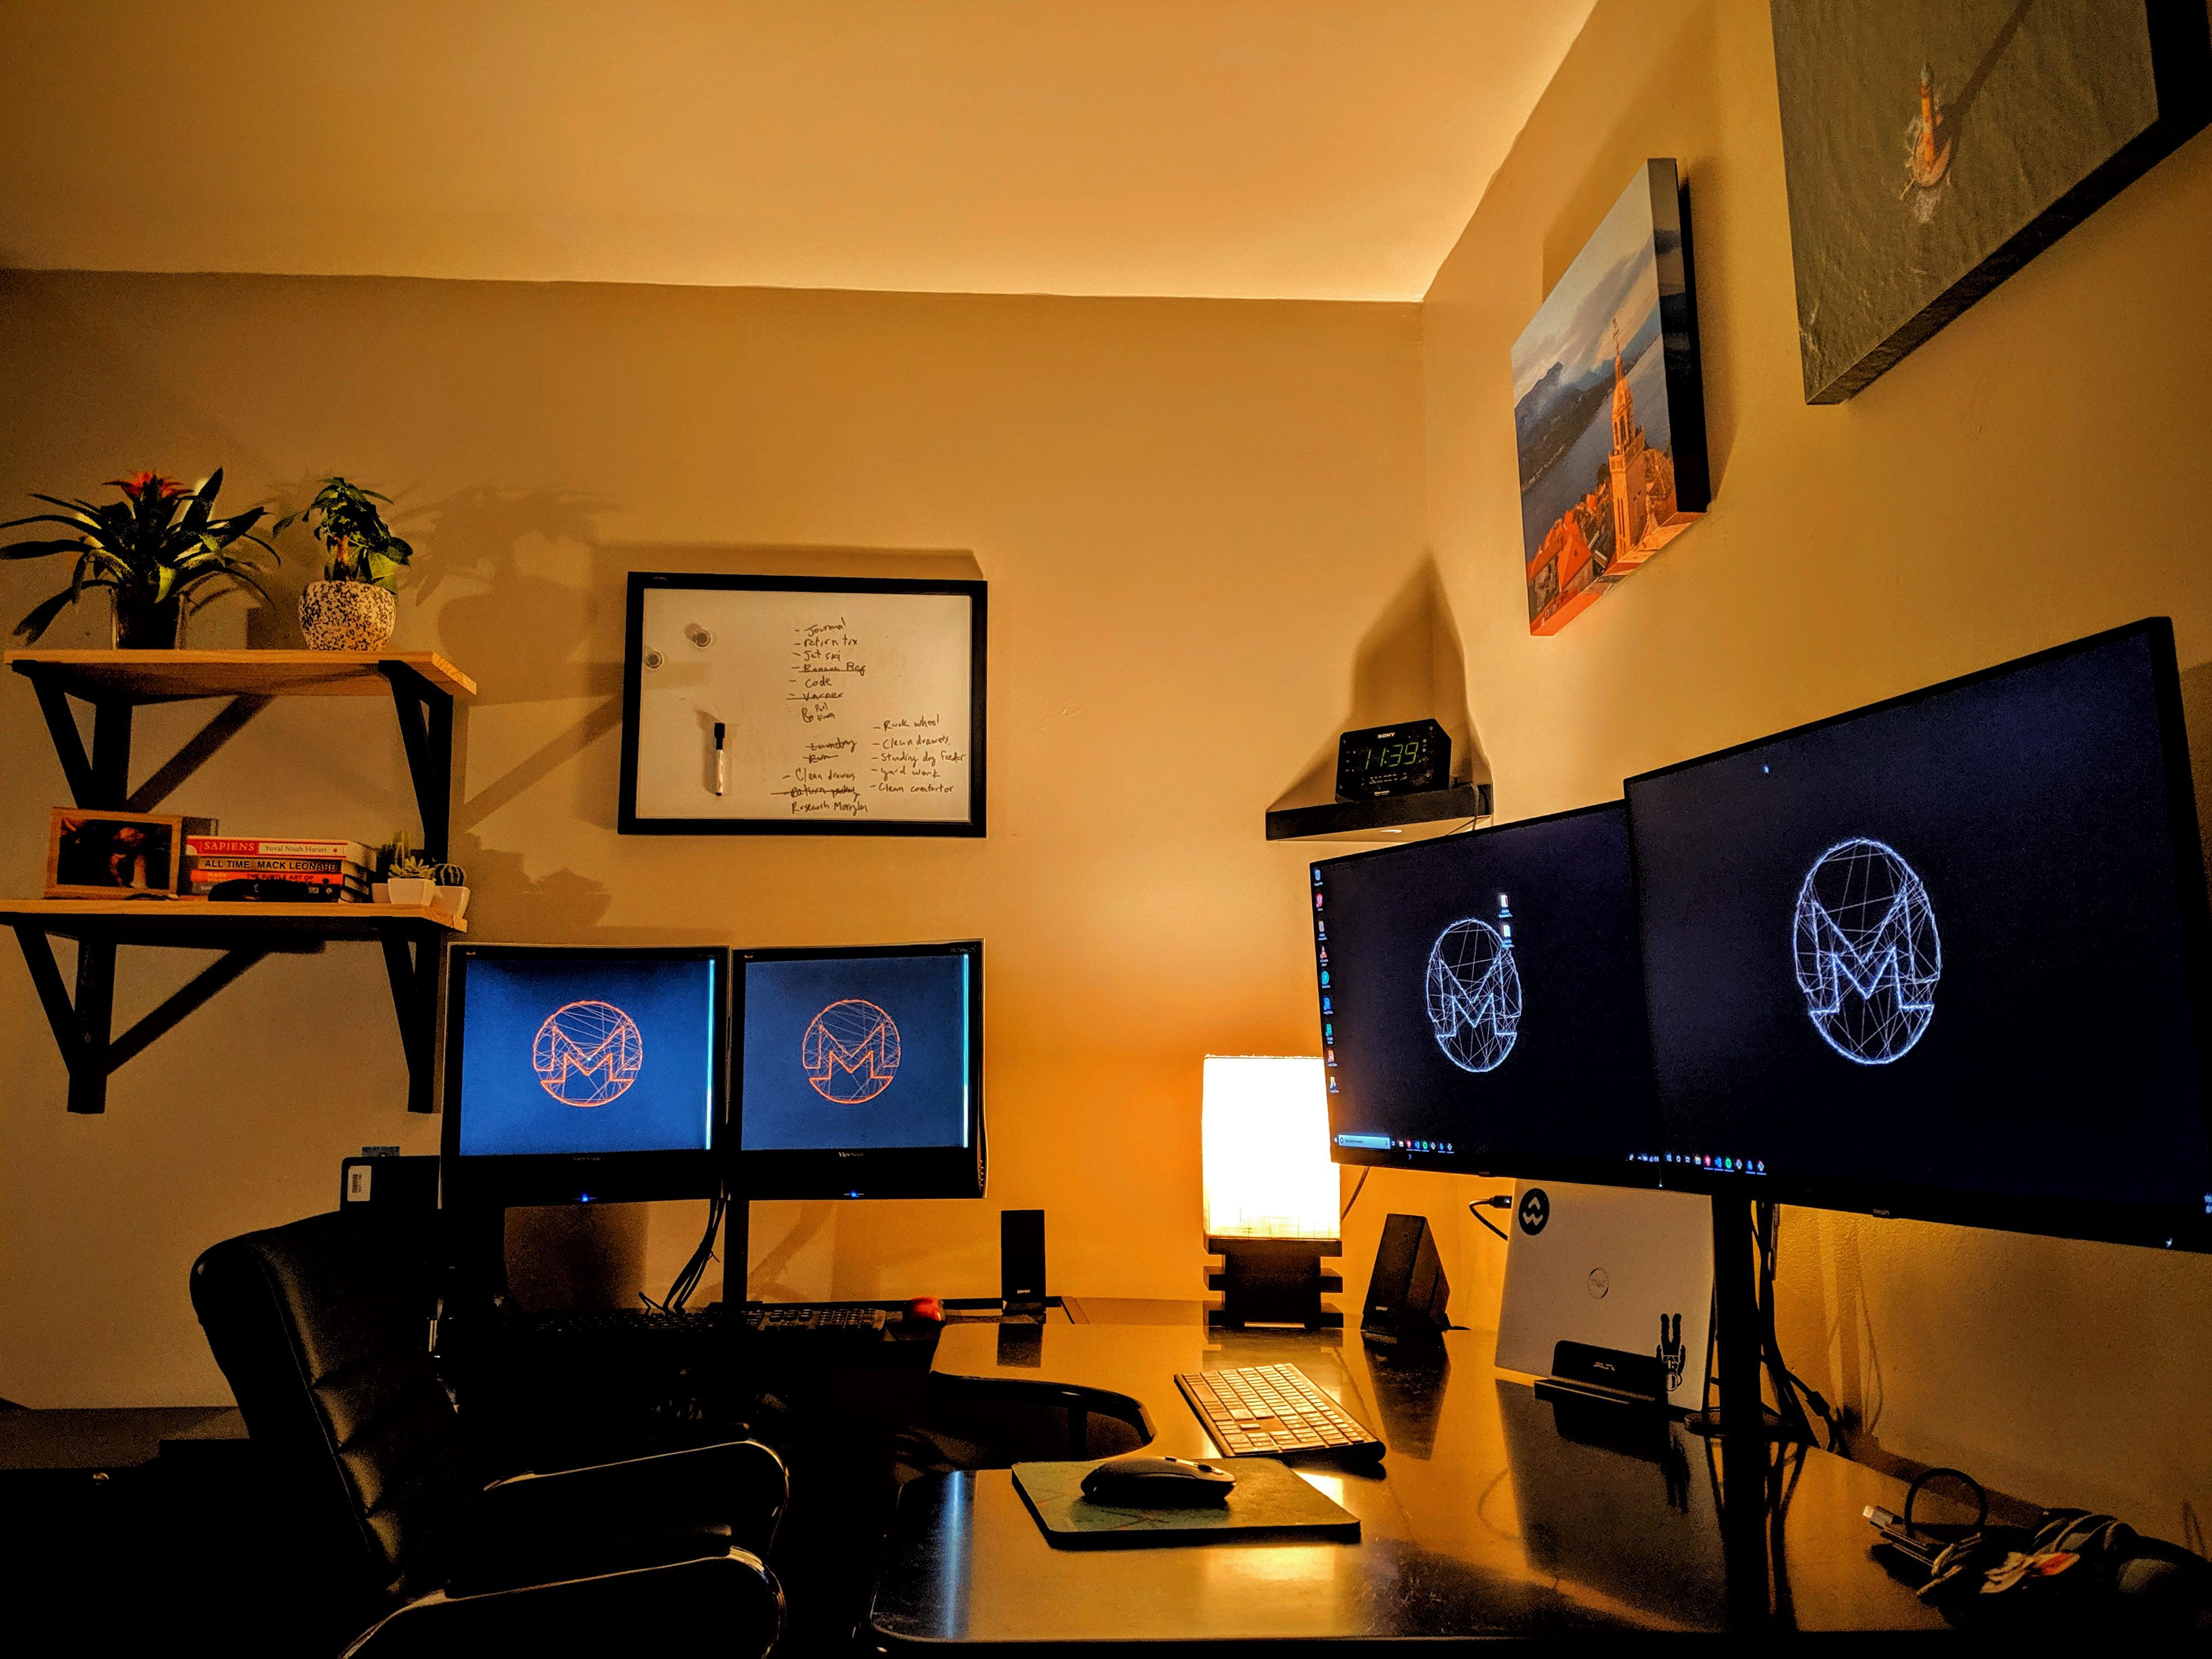Chair (Generic): (174, 1188, 822, 1659)
Decoration (Clock): (1317, 714, 1474, 802)
Decoration (Picture): (1757, 0, 2212, 416), (1498, 157, 1705, 634)
Desk (Generic): (907, 1263, 2212, 1659)
External Speakers (Generic): (1359, 1213, 1451, 1338), (996, 1204, 1049, 1316)
Keyboard (Generic): (1144, 1333, 1395, 1473), (507, 1303, 894, 1345)
Lamp (Desk): (1191, 1053, 1348, 1335)
Laptop (Windows): (1500, 1182, 1703, 1417)
Laptop Stand: (1531, 1337, 1677, 1415)
Monitor (Landscape): (1655, 617, 2195, 1225), (1315, 775, 1649, 1185), (458, 957, 719, 1201), (737, 957, 977, 1187)
Monitor Arm: (1717, 1202, 1787, 1453), (702, 1192, 786, 1305)
Mouse (Generic): (1066, 1453, 1242, 1511), (904, 1293, 948, 1333)
Mousepad (Generic): (1012, 1457, 1378, 1542)
